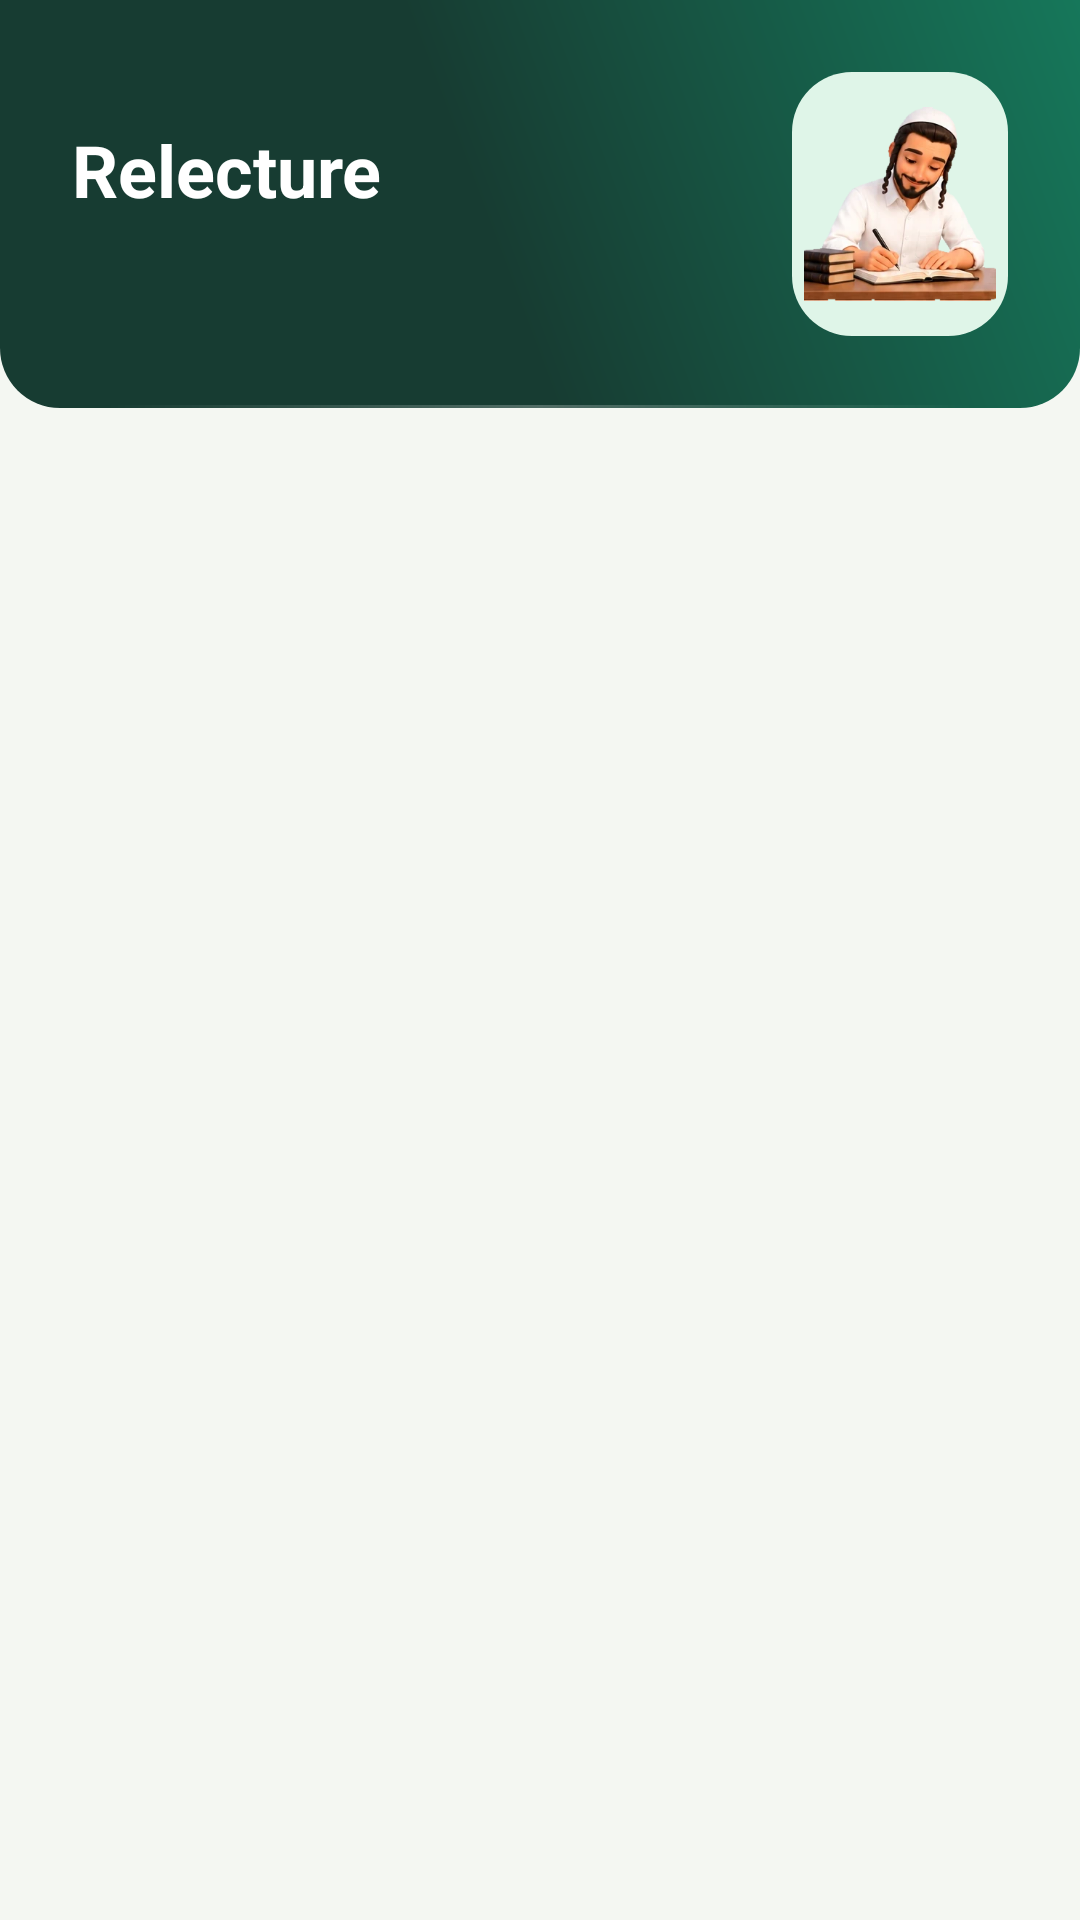

Icons on this 1080 x 1920 Android screen, each with the point to tap as (x=x, y=y):
char writing: (x=900, y=206)
